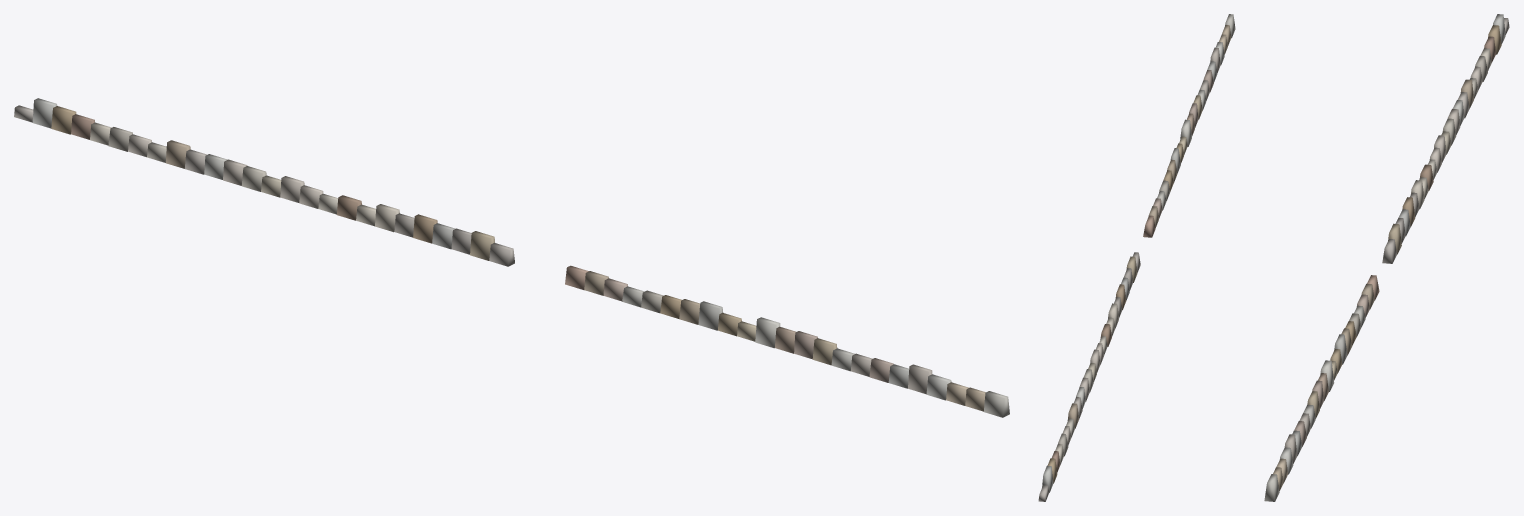
File: farm_24_26_collision.glb
3 views of the same model, side by side, from view 1: azimuth 30°, elevation 25°; view 2: azimuth 150°, elevation 25°; view 3: azimuth 330°, elevation 25° (orthographic). The views are drawn at different scales.
Visible parts, largest first — view 1: geometry_0; view 2: geometry_0; view 3: geometry_0.
Boxes of the visible parts, x1,y1,x2,y2 form: geometry_0: [14, 98, 1009, 417]; geometry_0: [1038, 14, 1235, 501]; geometry_0: [1264, 14, 1509, 501].
Bounding box in the file's own units: 27.89 × 5.31 × 77.69.
